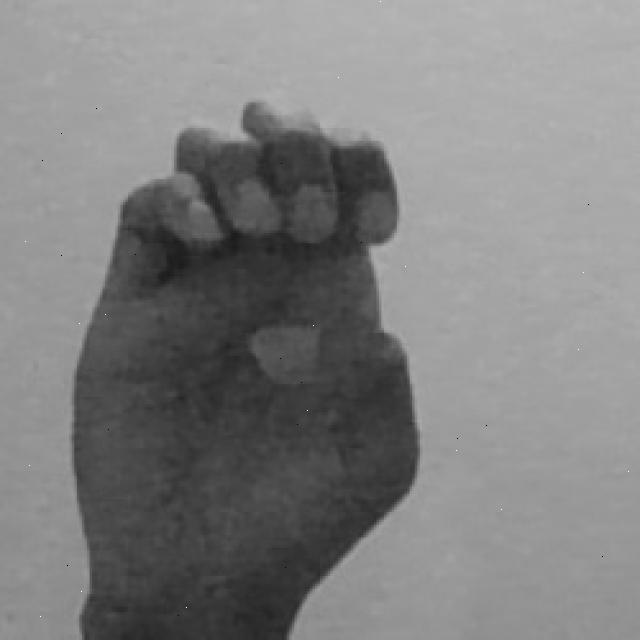E: (74, 97, 422, 640)
